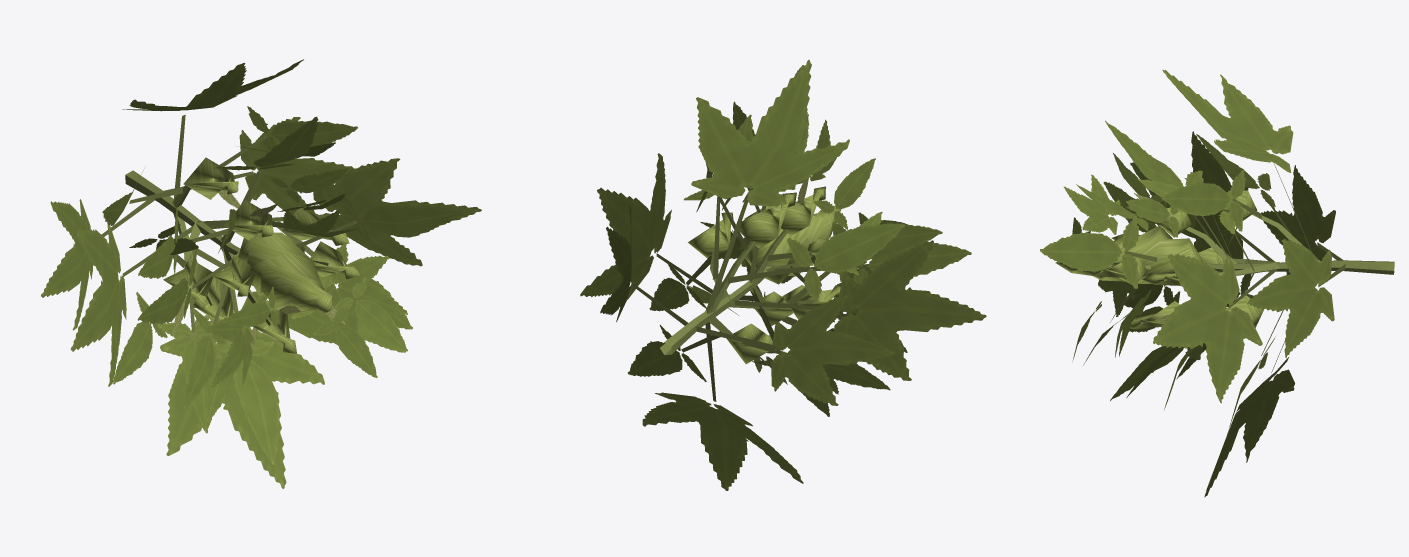
Rendered from p_auto_flowering_c1_cards.obj.
The picture shows the model from 3 angles, left to right: view 1: azimuth 30°, elevation 25°; view 2: azimuth 150°, elevation 25°; view 3: azimuth 270°, elevation 25°; orthographic projection. The views are drawn at different scales.
Size of the model in its own units: 1.34 by 1.37 by 0.987.
1 material, 1 textured.
